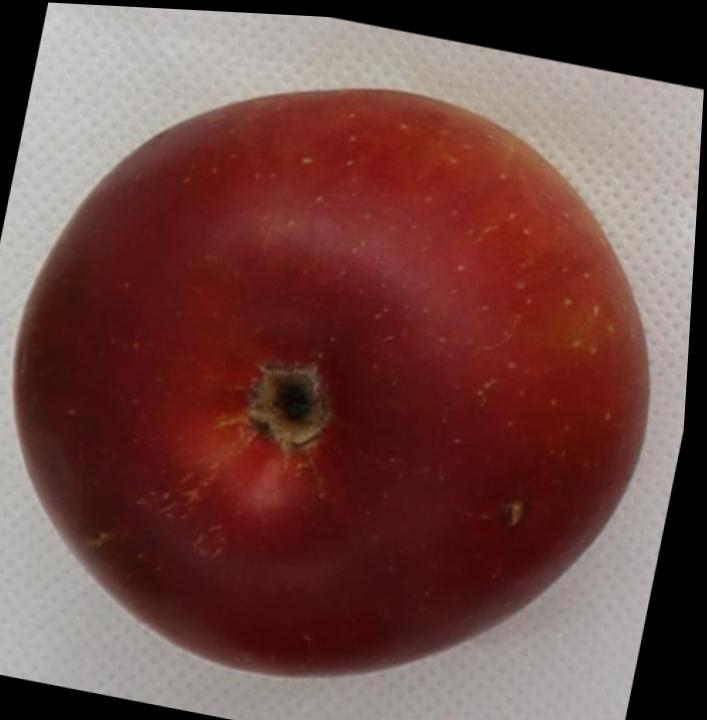apple: (13, 90, 646, 676)
surface_damage: (500, 499, 524, 526)
